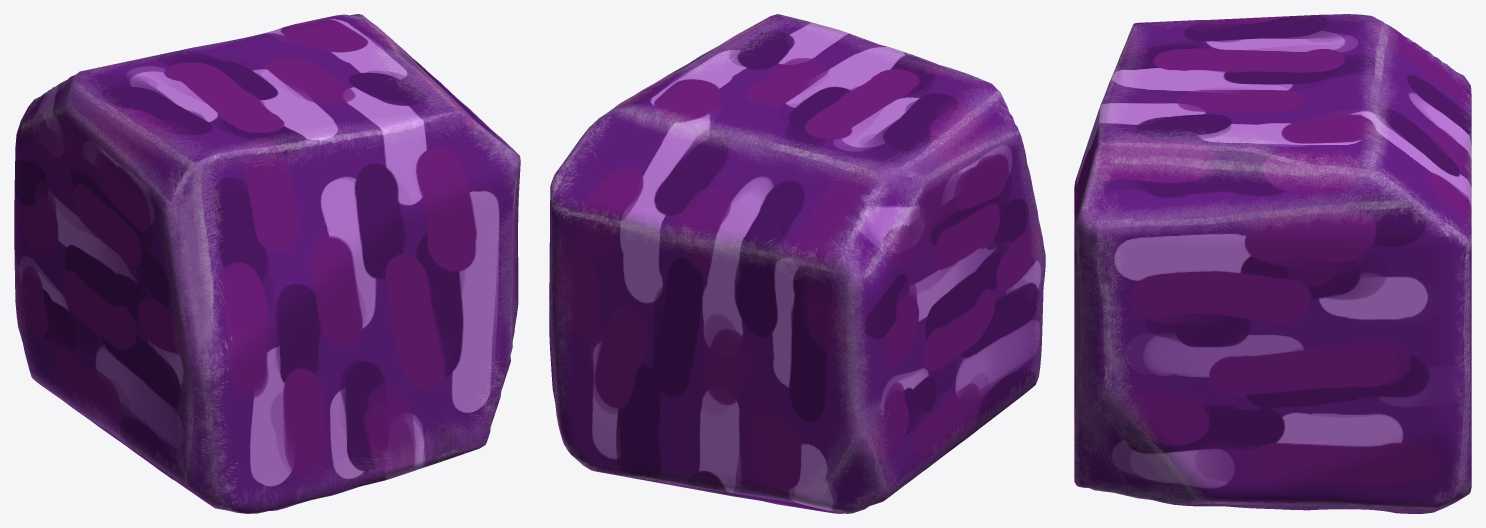
The model's file is Reverie Alien Ground.glb.
3 renders of one model, left to right at view 1: azimuth 30°, elevation 25°; view 2: azimuth 150°, elevation 25°; view 3: azimuth 270°, elevation 25°, orthographic. The views are drawn at different scales.
Parts seen in each view (by area): view 1: Low Poly; view 2: Low Poly; view 3: Low Poly.
Part boxes in pixels (x1,y1,x2,y2): Low Poly: [14, 14, 520, 513]; Low Poly: [549, 14, 1045, 513]; Low Poly: [1074, 14, 1471, 513].
Bounding box in the file's own units: 1 × 0.9966 × 1.
Materials: 1 (1 with a texture image).
